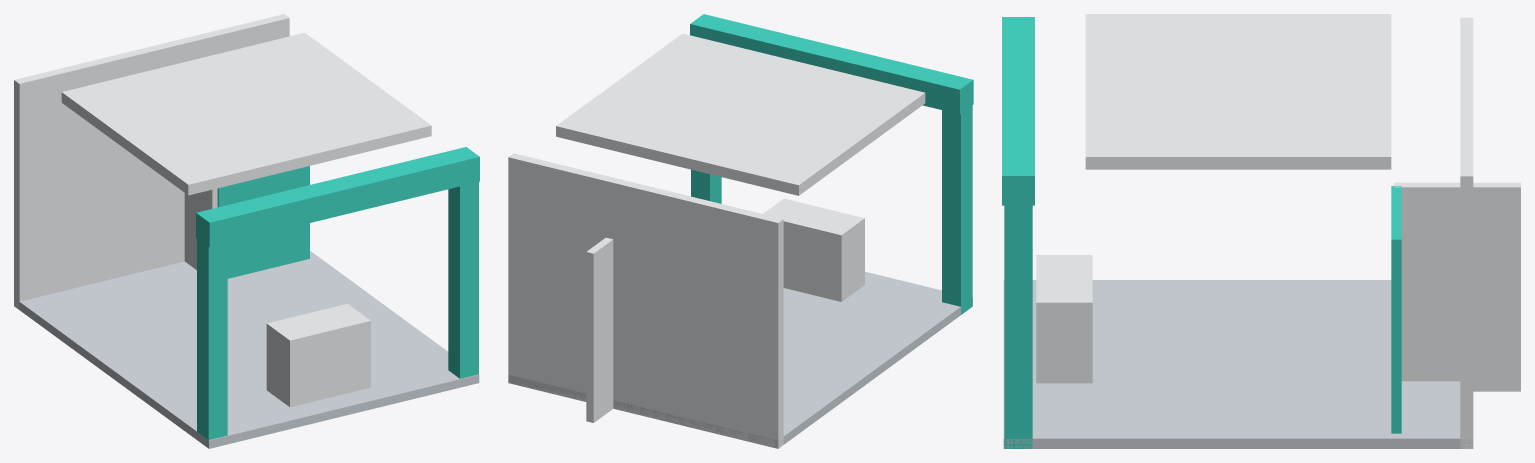
3 views of the same model, side by side, from view 1: azimuth 30°, elevation 25°; view 2: azimuth 150°, elevation 25°; view 3: azimuth 270°, elevation 25° (orthographic). The views are drawn at different scales.
Visible parts, largest first — view 1: Exhibition Booth Concept; view 2: Exhibition Booth Concept; view 3: Exhibition Booth Concept.
Part boxes in pixels (x1,y1,x2,y2): Exhibition Booth Concept: [14, 14, 479, 448]; Exhibition Booth Concept: [508, 14, 973, 448]; Exhibition Booth Concept: [1002, 14, 1520, 448].
Bounding box in the file's own units: 4 × 3.34 × 5.52.
